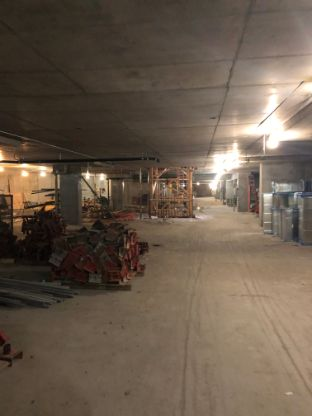Duct: (262, 178, 312, 249)
